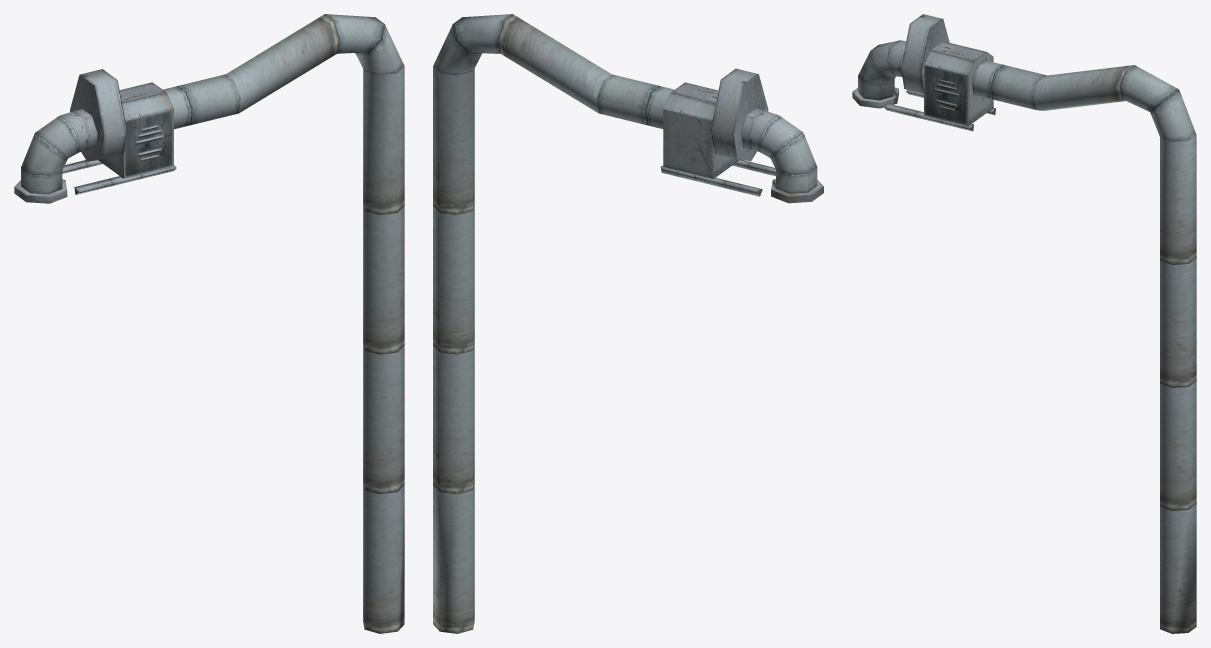
Rendered from Air_vent_pipe.fbx.
3 renders of one model, left to right at view 1: azimuth 30°, elevation 25°; view 2: azimuth 150°, elevation 25°; view 3: azimuth 330°, elevation 25°, orthographic. The views are drawn at different scales.
Parts seen in each view (by area): view 1: Air_vent_pipe; view 2: Air_vent_pipe; view 3: Air_vent_pipe.
Boxes of the visible parts, x1=… form: Air_vent_pipe: x1=14, y1=14, x2=404, y2=633; Air_vent_pipe: x1=433, y1=14, x2=823, y2=633; Air_vent_pipe: x1=852, y1=14, x2=1196, y2=633.
Size of the model in its own units: 623 by 972 by 97.81.
